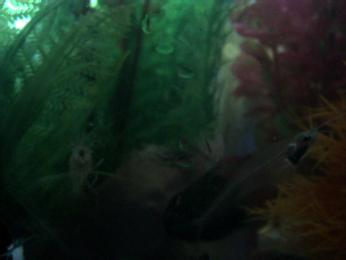glassfish: (184, 127, 320, 238)
siberian prawn: (61, 130, 100, 206)
